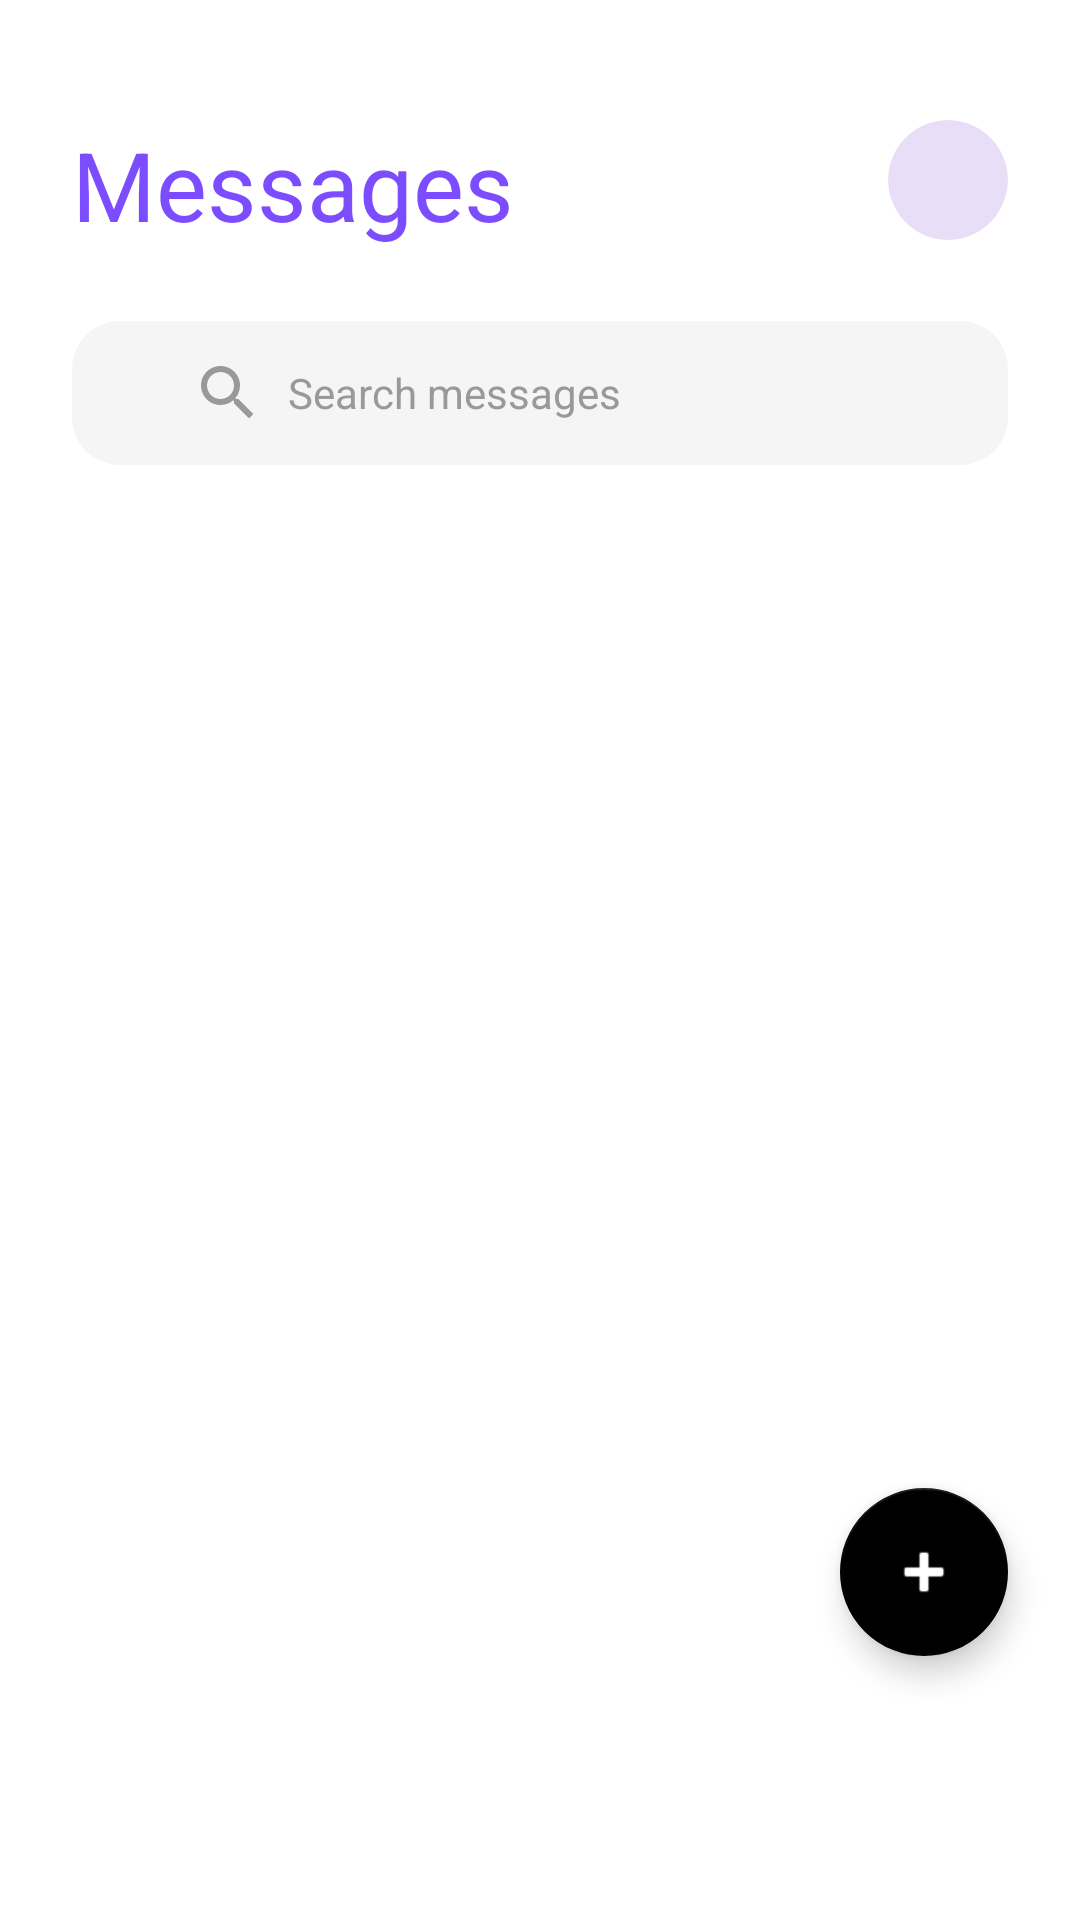

Icons on this 1080px×1920px Android screen, each with the point to tap as (x=x, y=y):
add: (x=924, y=1572)
